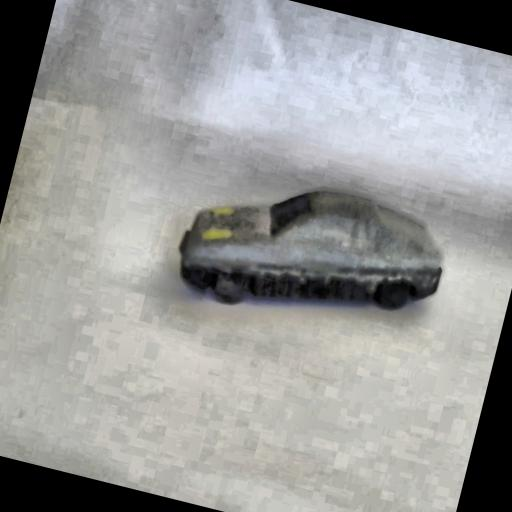normal_car: (162, 148, 461, 358)
